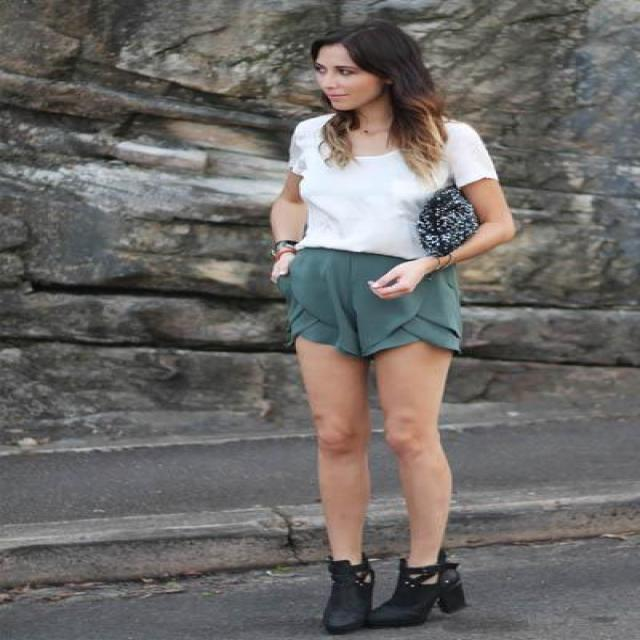bag: (418, 178, 488, 255)
shirt: (290, 114, 496, 266)
shoe: (318, 548, 466, 639)
skirt: (286, 246, 478, 356)
